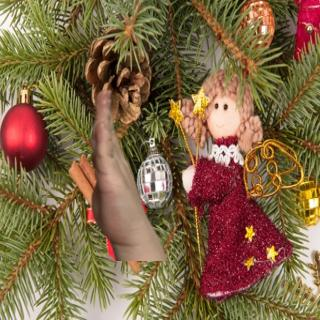RIGHT: (89, 88, 165, 246)
